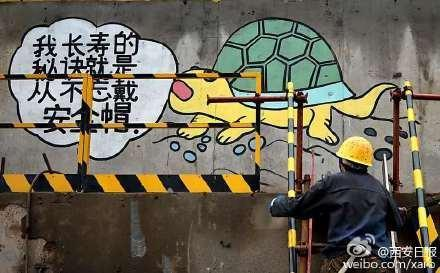Helmet: (334, 134, 373, 173)
